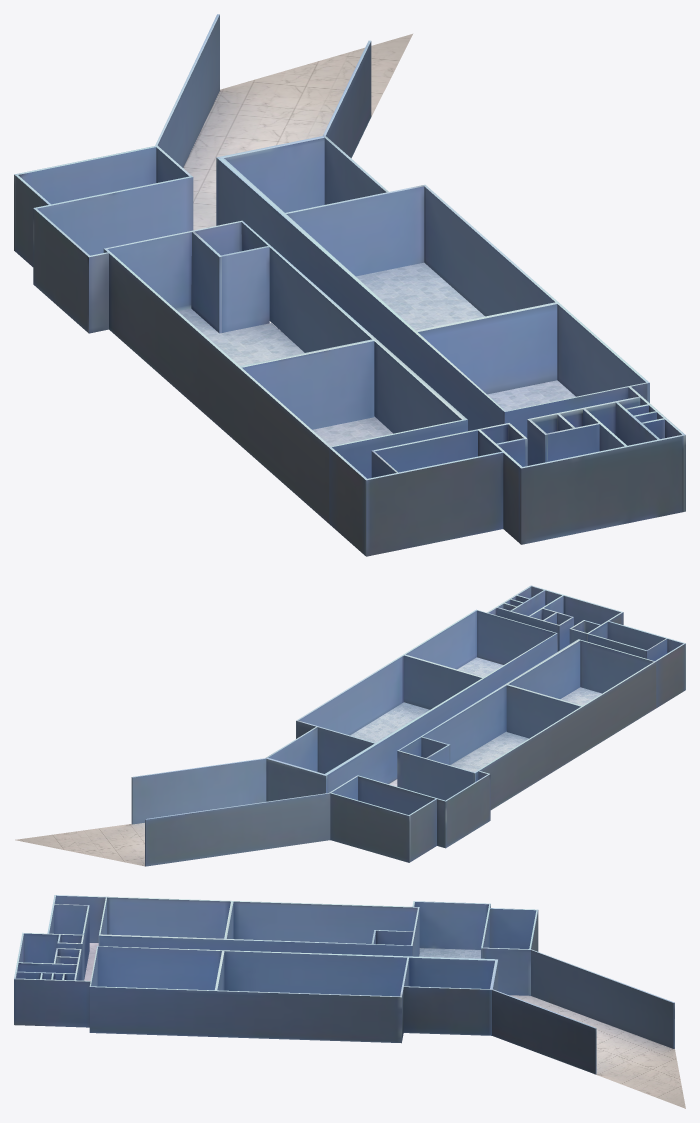
Rendered from D_9_GF-Main.glb.
3 views of the same model, one above another, from view 1: azimuth 30°, elevation 25°; view 2: azimuth 150°, elevation 25°; view 3: azimuth 270°, elevation 25° (orthographic). The views are drawn at different scales.
Visible parts, largest first — view 1: Walls.001, Mesh20.002, Travel Studio, Alif Crae, class1, Bolt & Volt Room; view 2: Walls.001, Mesh20.002, Travel Studio, Alif Crae, class1; view 3: Walls.001, Mesh20.002, Mesh6.
Part boxes in pixels (<box>): Walls.001: <box>14,14,685,556</box>; Mesh20.002: <box>183,34,412,229</box>; Travel Studio: <box>356,262,484,330</box>; Alif Crae: <box>178,308,374,416</box>; class1: <box>487,380,575,410</box>; Bolt & Volt Room: <box>312,417,392,446</box>; Walls.001: <box>131,585,685,866</box>; Mesh20.002: <box>15,822,145,866</box>; Travel Studio: <box>350,702,429,742</box>; Alif Crae: <box>450,731,528,772</box>; class1: <box>457,657,503,676</box>; Walls.001: <box>14,895,674,1074</box>; Mesh20.002: <box>519,996,685,1108</box>; Mesh6: <box>419,948,480,958</box>.
Bounding box in the file's own units: 6.99 × 0.8924 × 11.82.
1 material, 1 textured.
